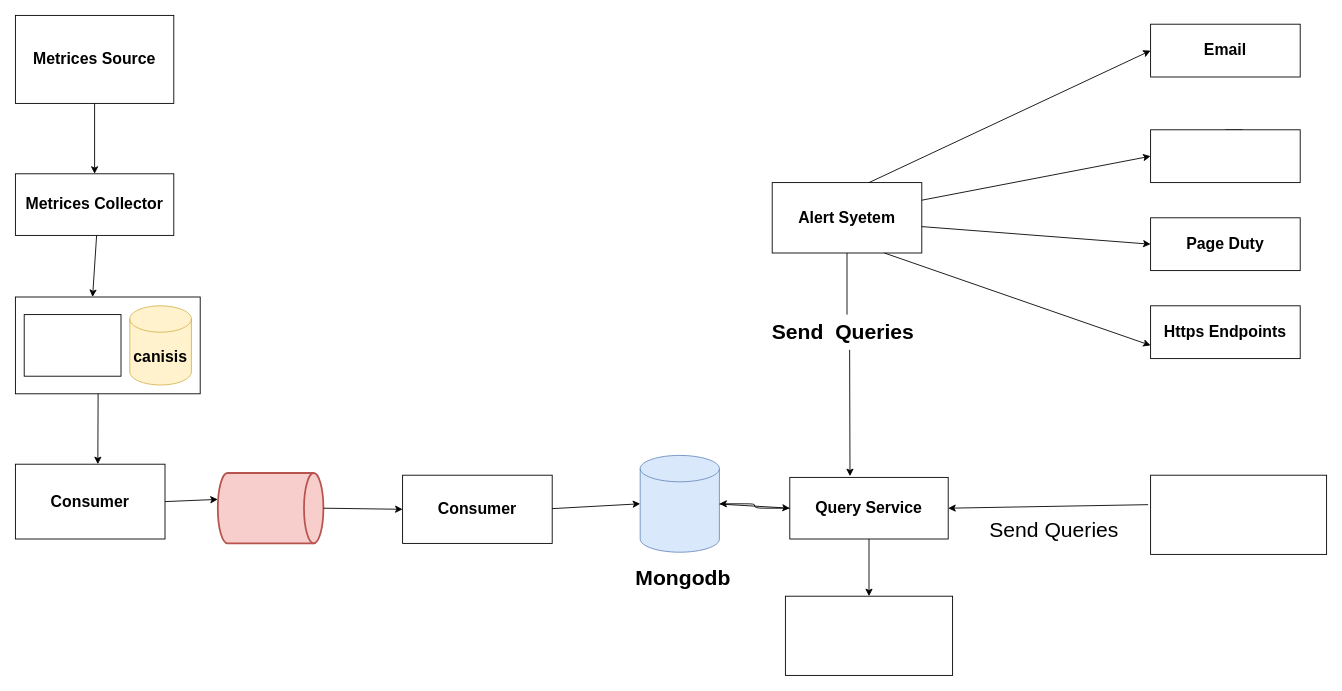
This 1342x691 diagram has some shape labels left out. The centre of each missing label's shape, as x and y in pixels:
"Cache" goes at pixel 869 635.
"cassandra" goes at pixel 72 345.
"Kafka" goes at pixel 270 508.
"Text Message" goes at pixel 1225 156.
"Visualization System" goes at pixel 1238 514.
